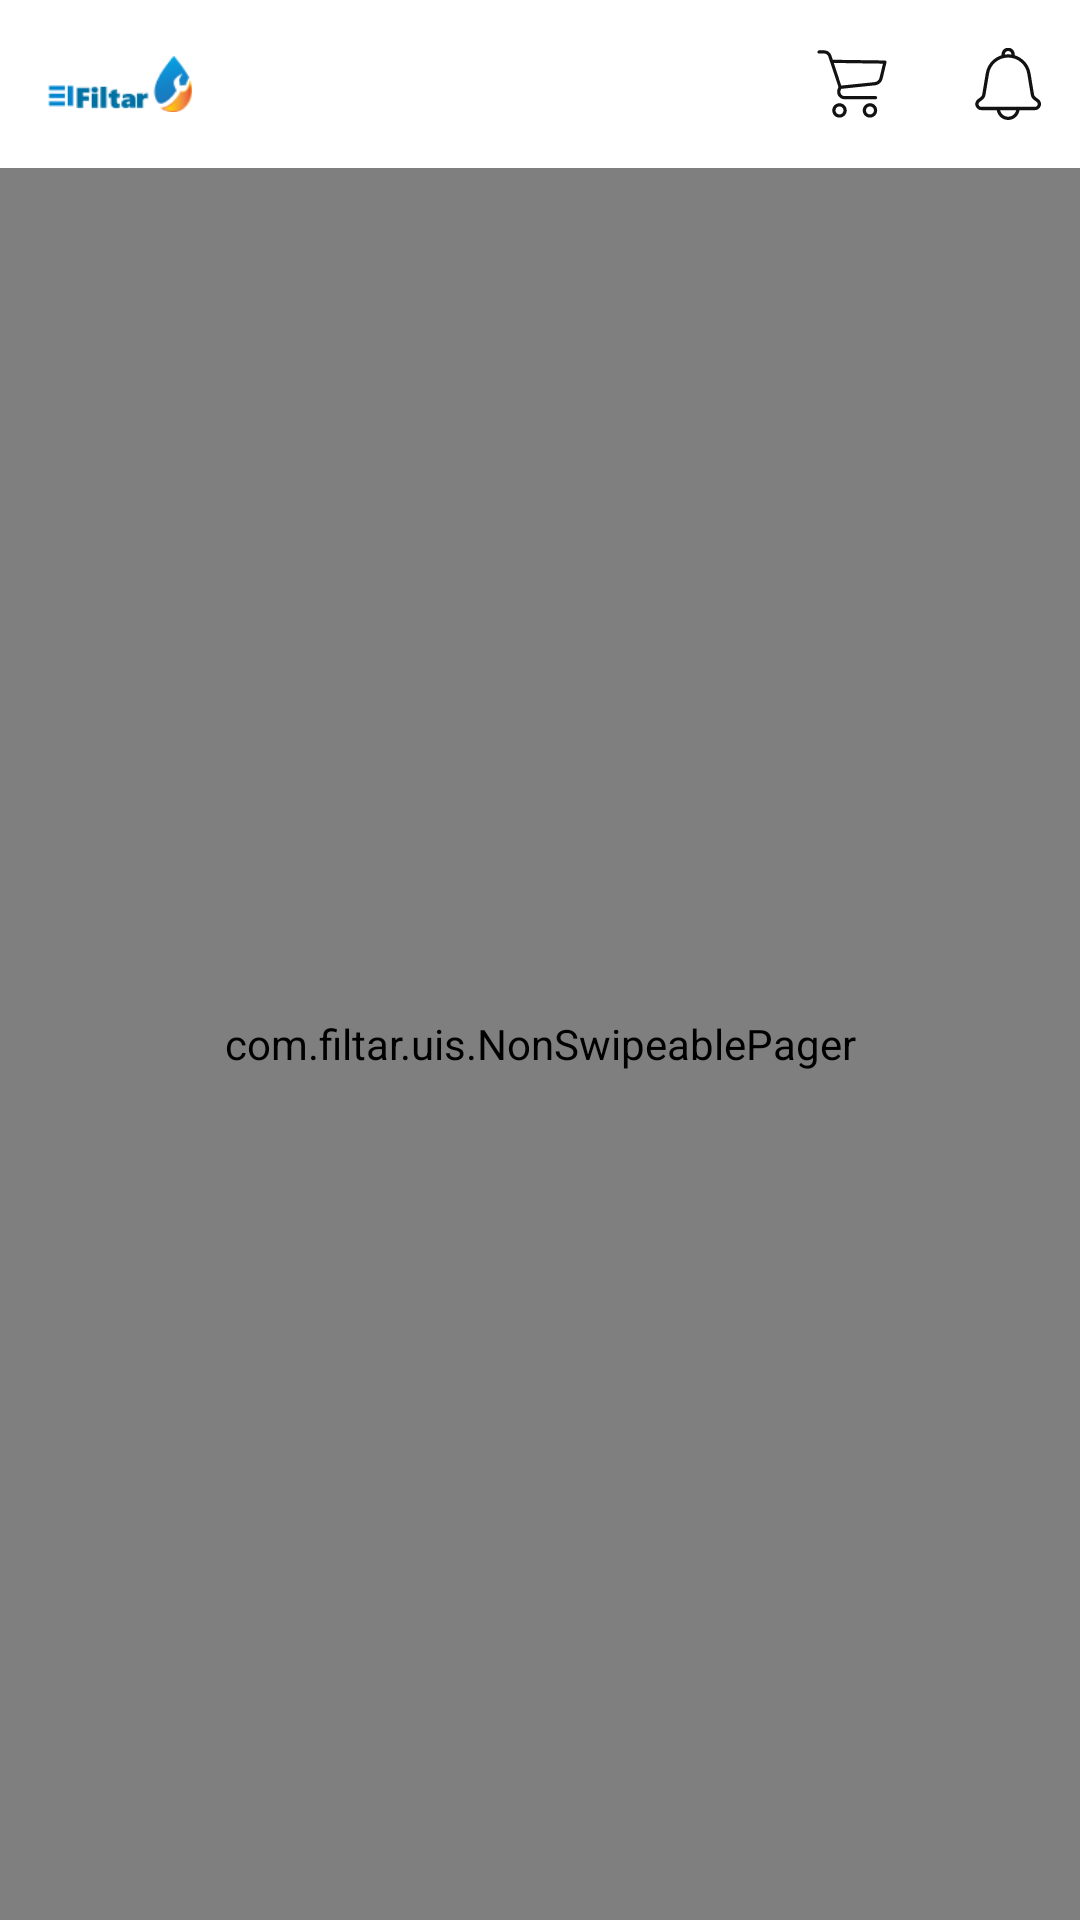

Named icons in this screenshot (1080px x 1920px) and their bounding boxes, [x1, y1, x2, y2]:
market: [817, 50, 887, 118]
notification: [975, 48, 1041, 120]
